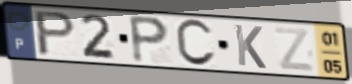2: (81, 13, 117, 61)
C: (173, 18, 218, 69)
K: (232, 22, 268, 71)
P: (127, 13, 172, 66), (34, 9, 79, 57)
Z: (271, 25, 317, 74)
